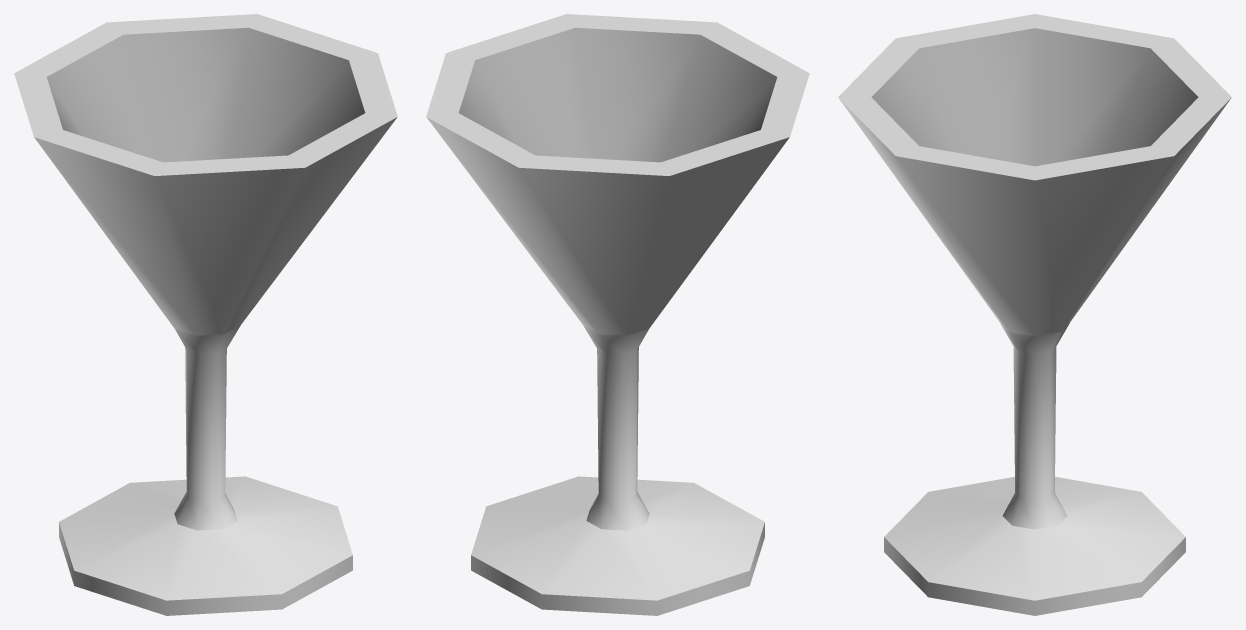
Rendered from Prop_SmallGlass.fbx.
3 renders of one model, left to right at view 1: azimuth 30°, elevation 25°; view 2: azimuth 150°, elevation 25°; view 3: azimuth 270°, elevation 25°, orthographic.
Visible parts, largest first — view 1: Prop_SmallGlass; view 2: Prop_SmallGlass; view 3: Prop_SmallGlass.
Part boxes in pixels (box(x1,y1,x2,y2)): Prop_SmallGlass: box(14, 14, 397, 615); Prop_SmallGlass: box(426, 14, 809, 615); Prop_SmallGlass: box(838, 14, 1231, 615).
Bounding box in the file's own units: 26.52 × 33.79 × 26.52.
